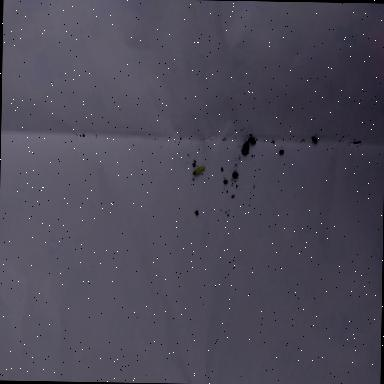pbw: (192, 165, 206, 175)
